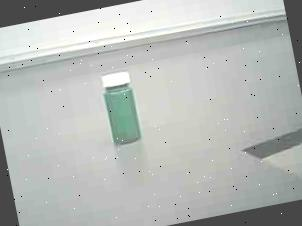Bottle C: (92, 62, 152, 151)
